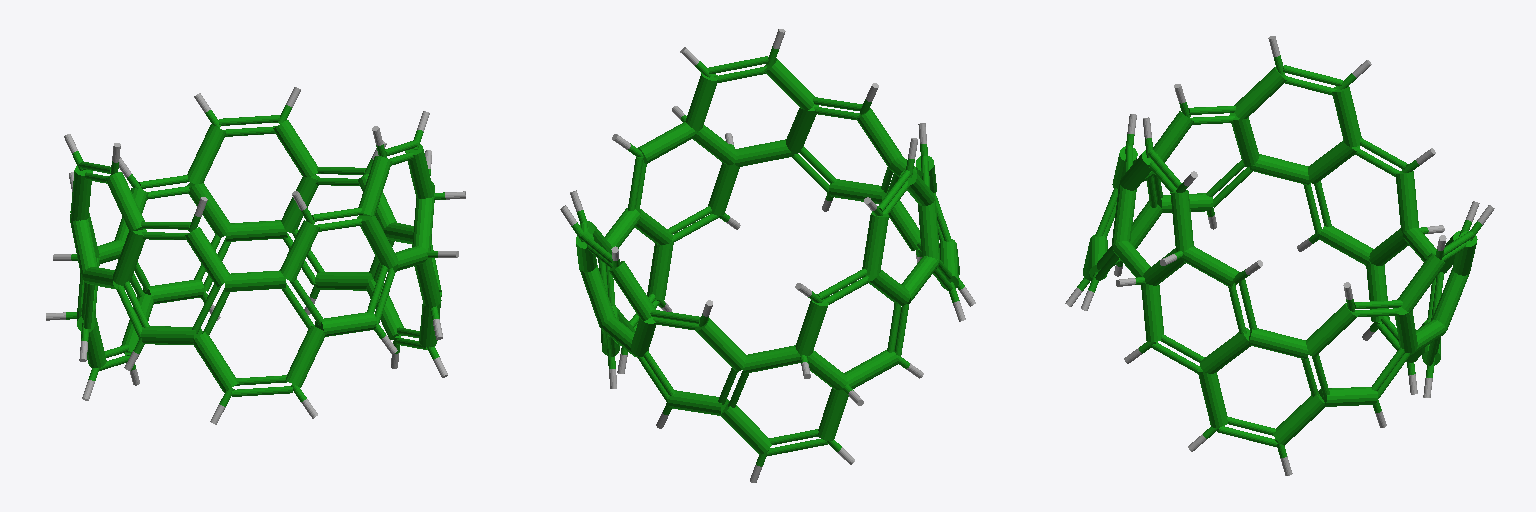
The model's file is cnt.obj.
3 renders of one model, left to right at view 1: azimuth 30°, elevation 25°; view 2: azimuth 150°, elevation 25°; view 3: azimuth 270°, elevation 25°, orthographic.
Parts seen in each view (by area): view 1: Shape_Cylinder.002; view 2: Shape_Cylinder.002; view 3: Shape_Cylinder.002.
Part boxes in pixels (x1,y1,x2,y2): Shape_Cylinder.002: (46,87,465,424); Shape_Cylinder.002: (560,29,975,482); Shape_Cylinder.002: (1065,36,1494,475).
Size of the model in its own units: 10.31 by 9.79 by 11.58.